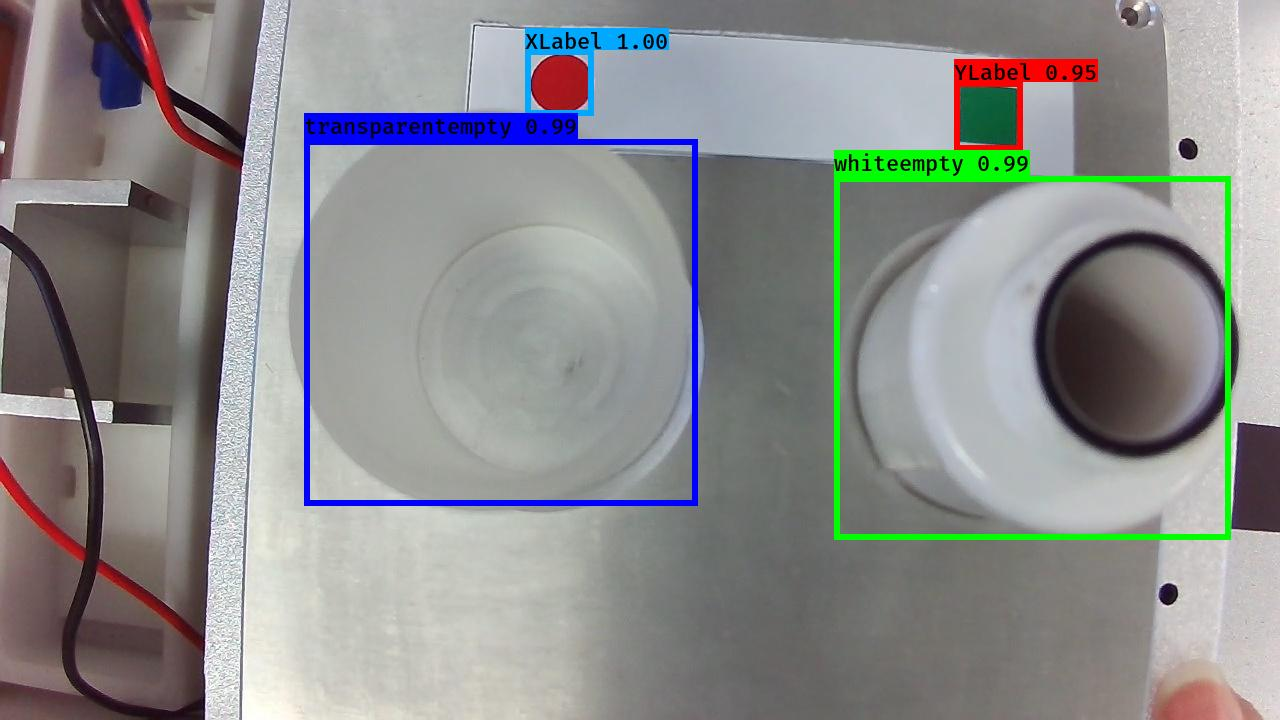XLabel: (527, 46, 595, 115)
YLabel: (955, 79, 1019, 149)
transparentempty: (279, 112, 703, 526)
whiteempty: (845, 171, 1242, 541)
